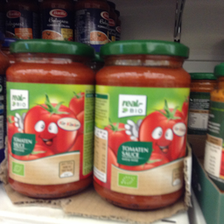tomato_sauce: (91, 39, 192, 210), (5, 39, 96, 199)
